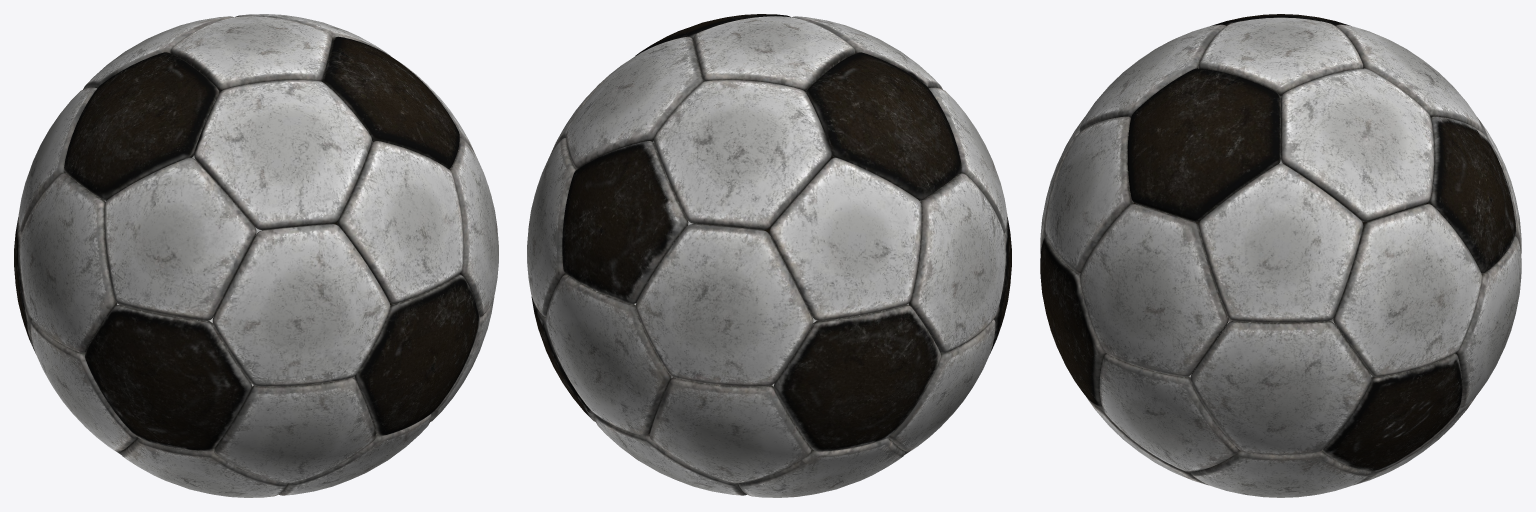
File: ball.fbx
3 views of the same model, side by side, from view 1: azimuth 30°, elevation 25°; view 2: azimuth 150°, elevation 25°; view 3: azimuth 270°, elevation 25° (orthographic).
Visible parts, largest first — view 1: ball; view 2: ball; view 3: ball.
Part boxes in pixels (x1,y1,x2,y2): ball: (14, 14, 498, 497); ball: (527, 14, 1011, 497); ball: (1040, 14, 1521, 497).
Bounding box in the file's own units: 852 × 853 × 847.
1 material, 1 textured.
